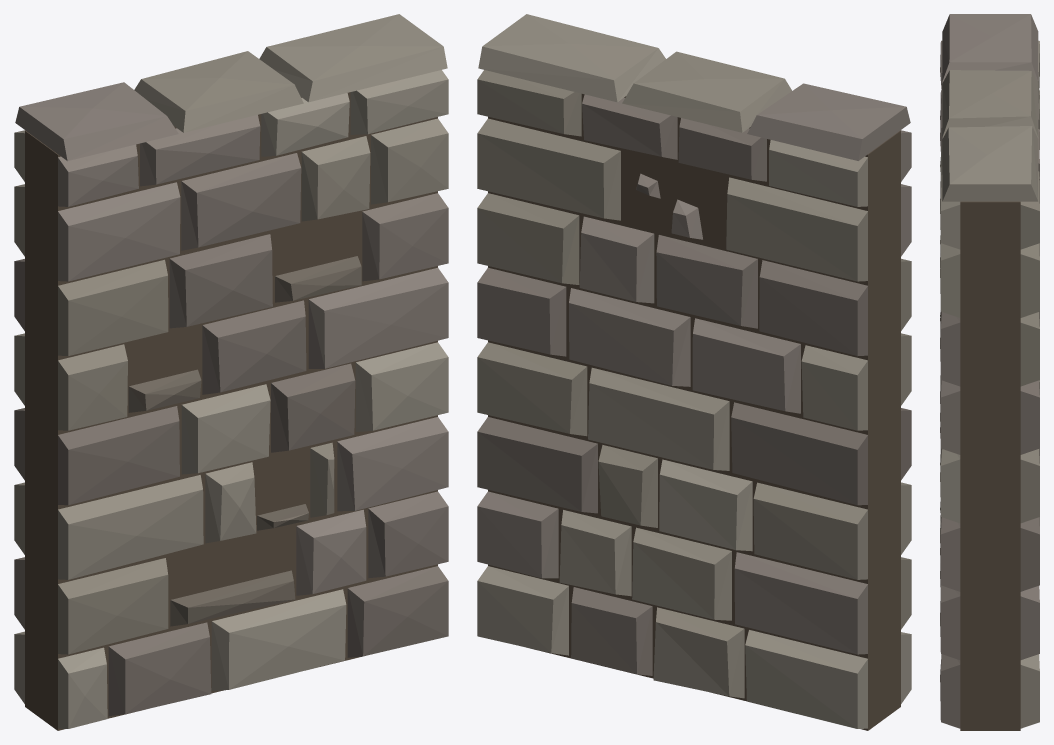
Rendered from climbable-stone-wall-0052e0.glb.
The picture shows the model from 3 angles, left to right: view 1: azimuth 30°, elevation 25°; view 2: azimuth 150°, elevation 25°; view 3: azimuth 270°, elevation 25°; orthographic projection. The views are drawn at different scales.
Parts seen in each view (by area): view 1: masonry; view 2: masonry; view 3: masonry.
Boxes of the visible parts, x1,y1,x2,y2 form: masonry: (14, 14, 448, 730); masonry: (477, 14, 911, 730); masonry: (940, 14, 1039, 730).
Size of the model in its own units: 2 by 3 by 0.496.
